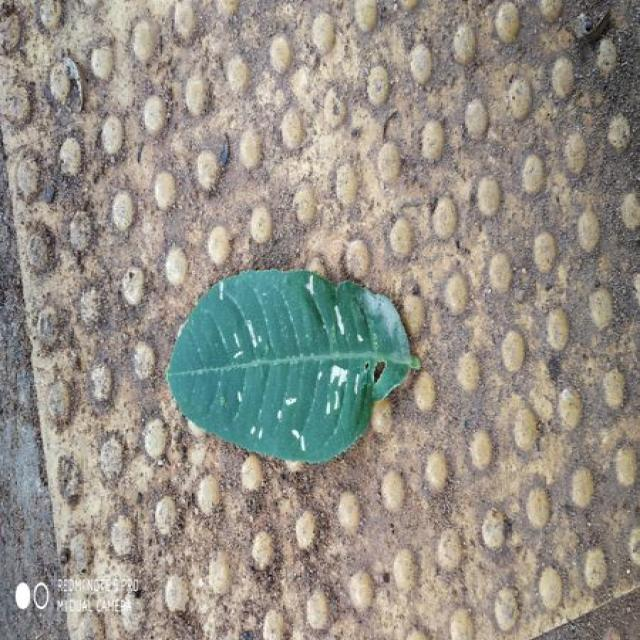badipala: (167, 270, 418, 462)
